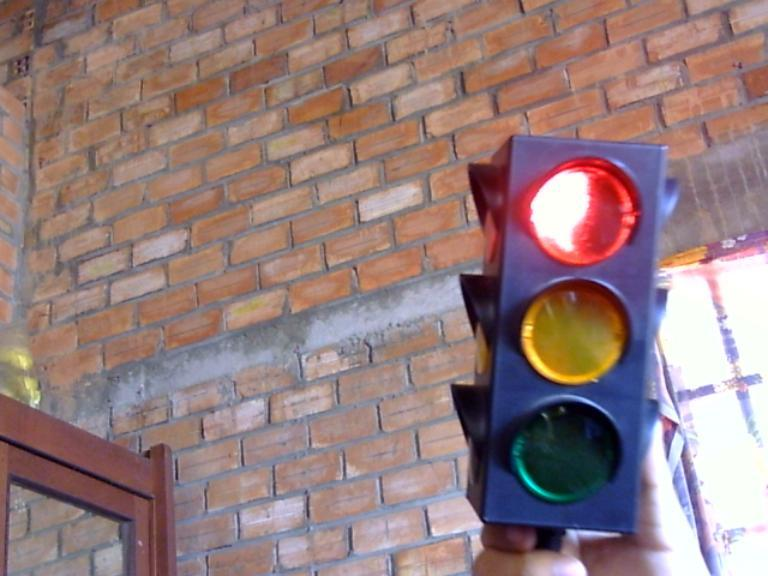red: (520, 148, 653, 270)
